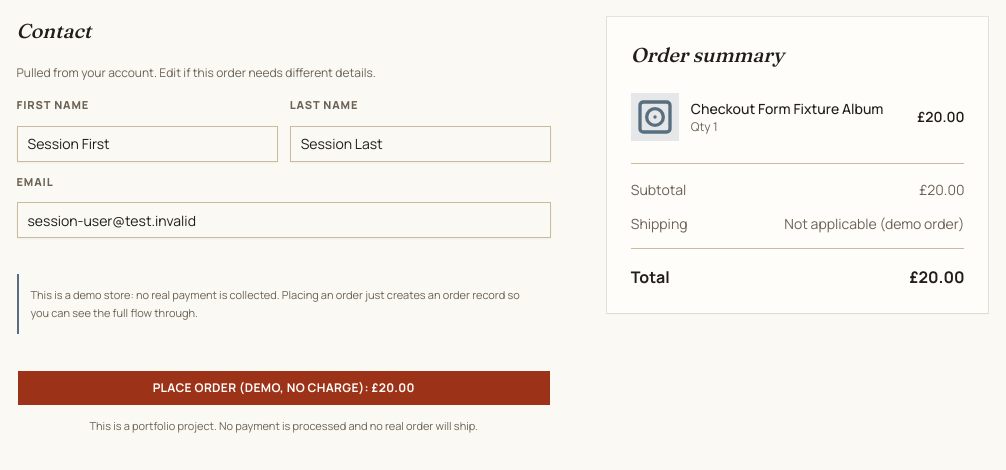
Test: CheckoutForm › shows the sold-out message and refreshes the cart on a 409 conflict
The width and height of the screenshot is (1006, 470).
Click the button "Place order (demo, no charge): £20.00" at x=284, y=388, box left=16, top=370, right=551, bottom=406
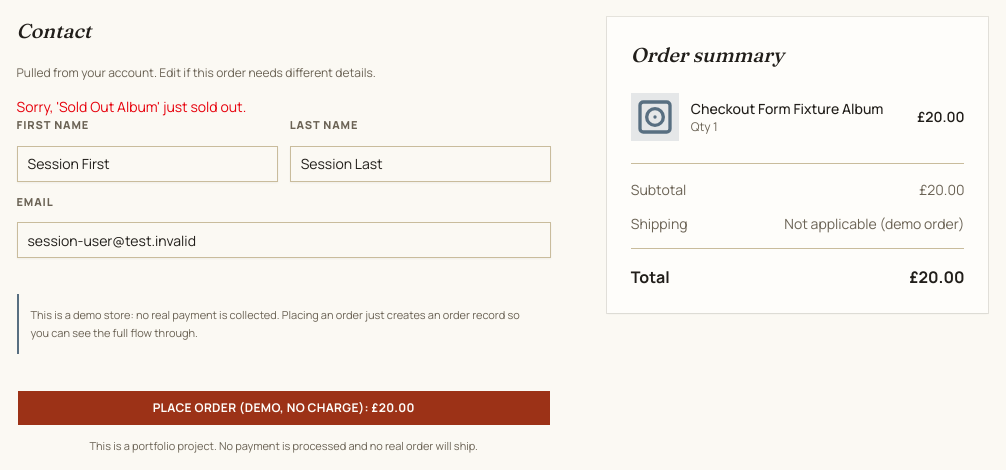
Result: the text "Sorry, 'Sold Out Album' just sold out." is shown at left=16, top=97, right=246, bottom=116
